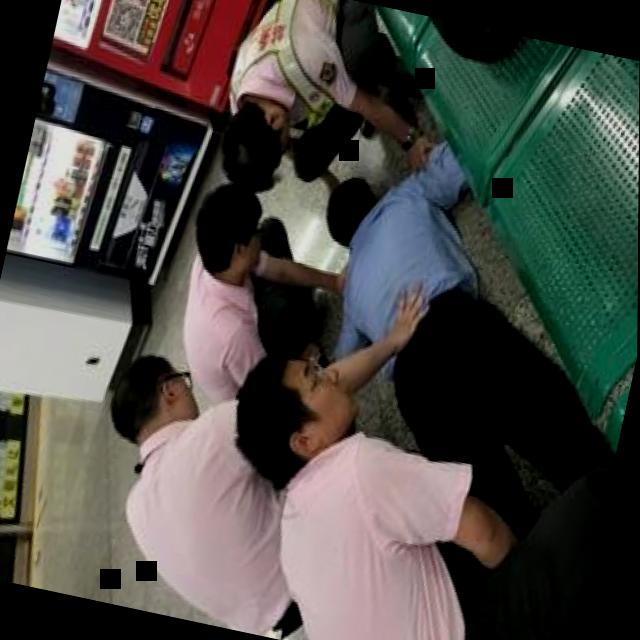Fall-Detected: (269, 126, 639, 528)
